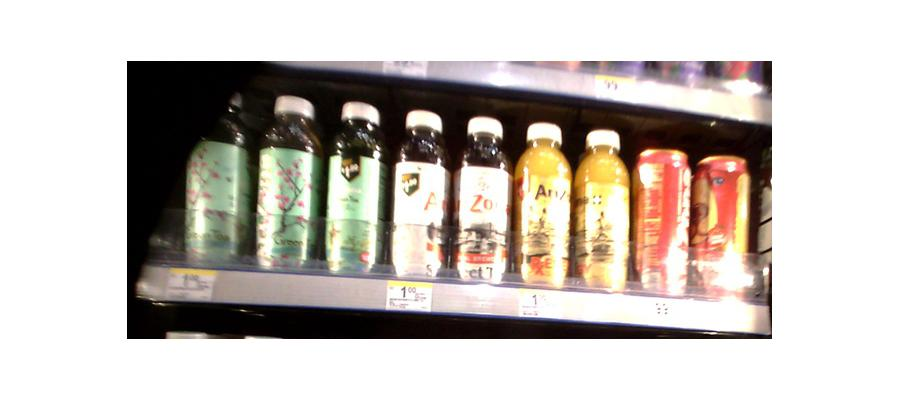bottle: (182, 92, 248, 264), (255, 92, 318, 269), (325, 100, 384, 271), (391, 109, 449, 279), (574, 127, 632, 291), (454, 119, 510, 288), (514, 123, 571, 288), (633, 148, 693, 298), (699, 159, 749, 298)
